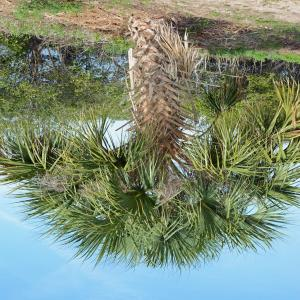palm tree: (0, 16, 300, 283)
